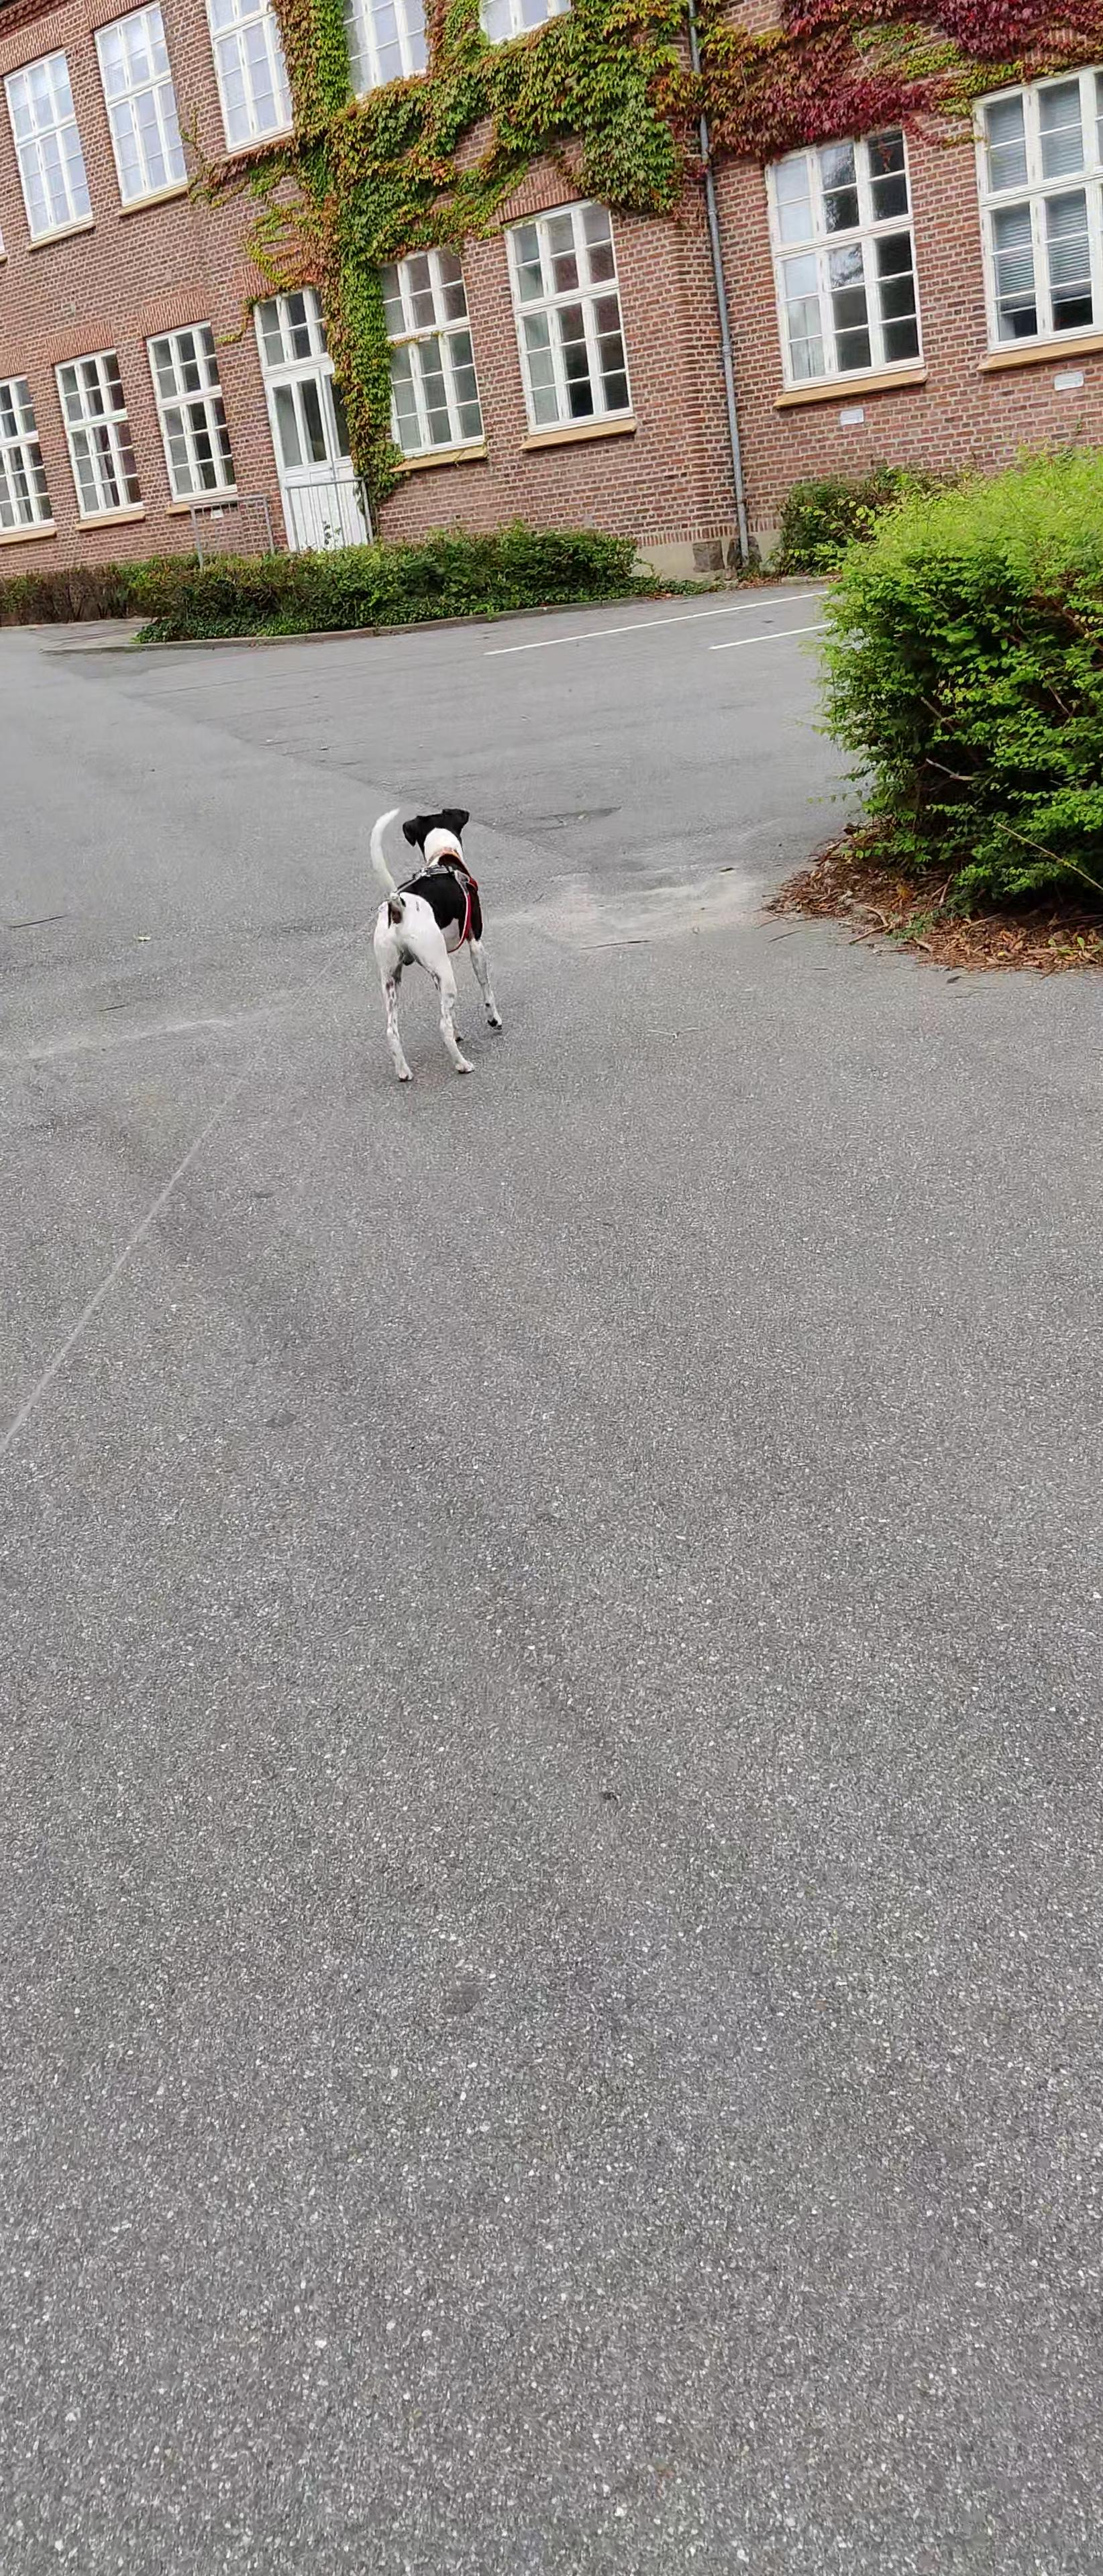Dog: (360, 805, 506, 1084)
